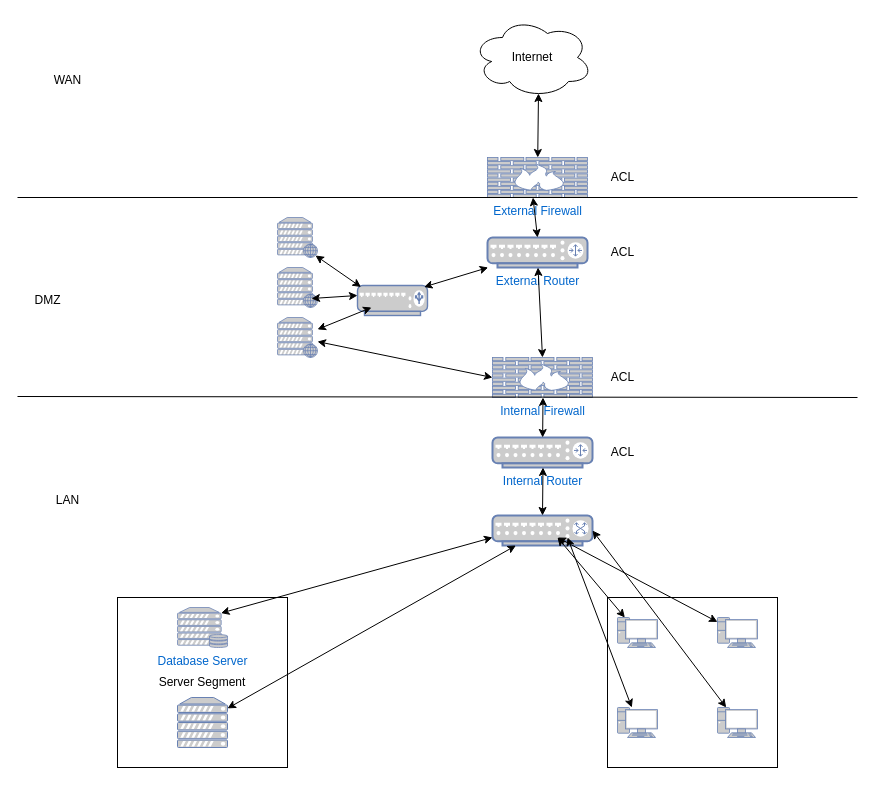
Some shapes in this 876 by 786 pixel diagram are drawn without their labels. Each missing label, with the box of its shape:
Domain Controller: (176, 696, 228, 748)
Switch: (491, 514, 593, 546)
Workstation Segment: (606, 596, 778, 768)
